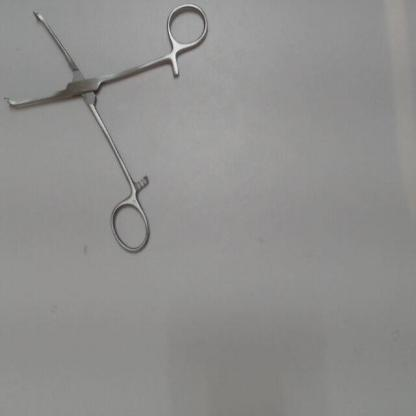Allis Tissue Forceps: (2, 0, 214, 260)
